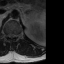CCS_normal: (10, 31, 12, 41)
LFS_normal: (15, 32, 17, 39)
LLS_normal: (12, 31, 15, 39)
RFS_normal: (5, 31, 7, 39)
RLS_normal: (7, 31, 10, 39)
